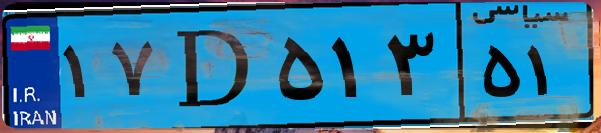1: (330, 28, 385, 110), (57, 26, 110, 100), (525, 38, 570, 115)
3: (385, 28, 445, 110)
5: (270, 28, 330, 110), (475, 38, 525, 113)
7: (110, 28, 158, 98)
D: (158, 12, 270, 120)
